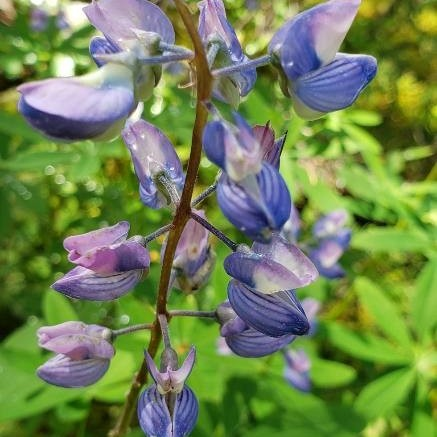obstacle: (52, 17, 303, 411)
